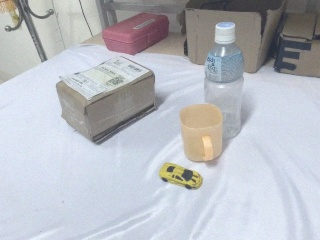bottle: (204, 23, 246, 138)
box: (57, 55, 157, 144), (188, 1, 286, 71), (273, 11, 320, 79), (101, 10, 169, 57)
cup: (180, 103, 225, 163)
toy_car: (159, 162, 203, 189)
